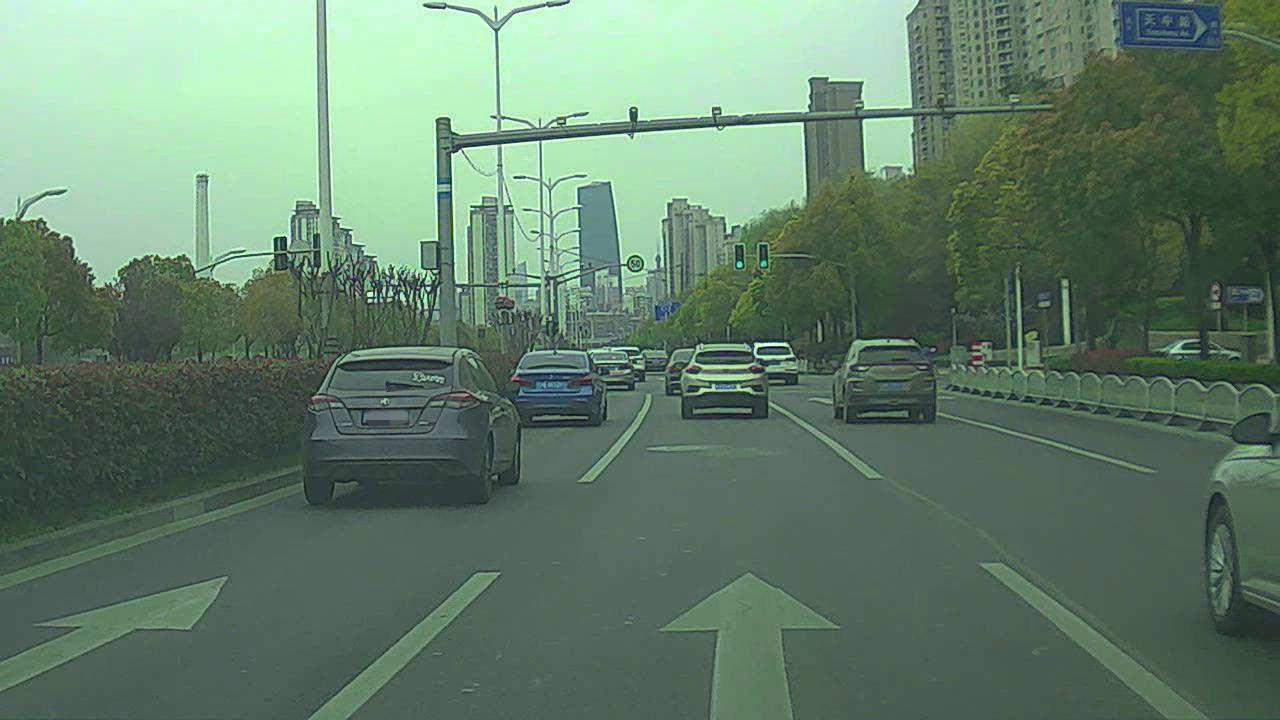traffic_light: (758, 241, 772, 272), (734, 242, 746, 270)
